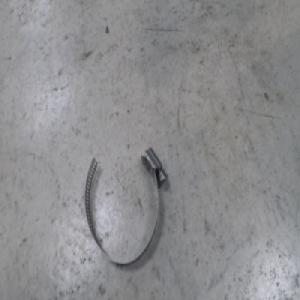AdjustableClamp: (81, 143, 165, 263)
